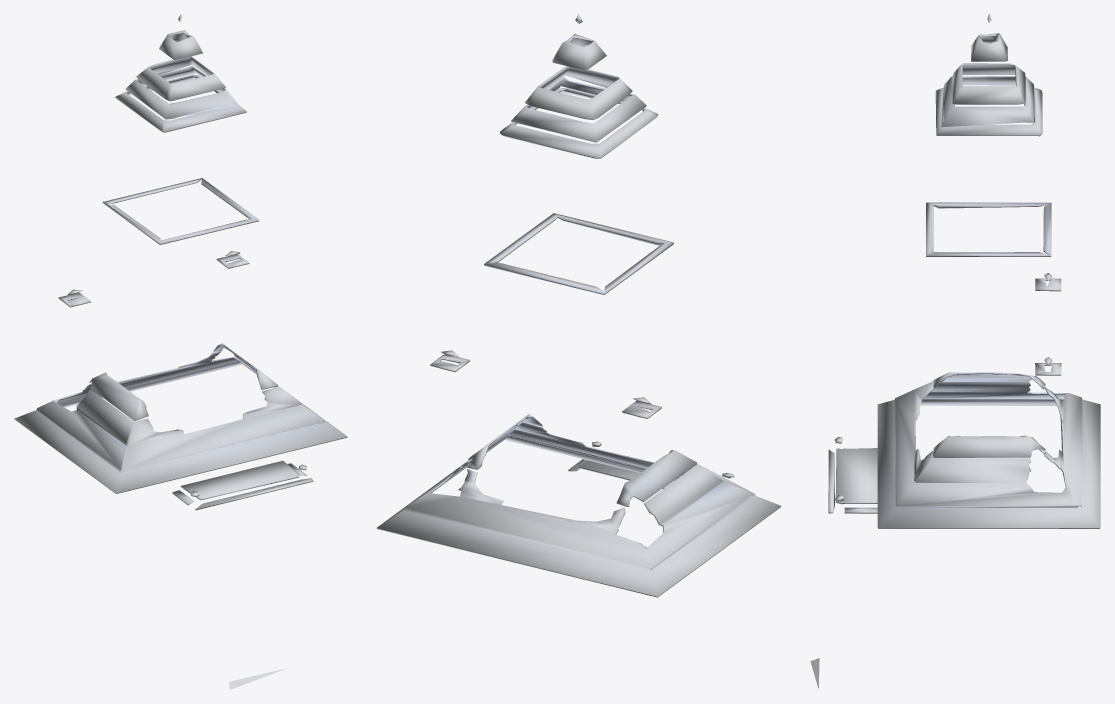
Rendered from protocol.spark.snow.glb.
3 renders of one model, left to right at view 1: azimuth 30°, elevation 25°; view 2: azimuth 150°, elevation 25°; view 3: azimuth 270°, elevation 25°, orthographic. The views are drawn at different scales.
Visible parts, largest first — view 1: building.protocol.spark.snow.mesh; view 2: building.protocol.spark.snow.mesh; view 3: building.protocol.spark.snow.mesh.
Part boxes in pixels (<box>): building.protocol.spark.snow.mesh: <box>14,14,347,689</box>; building.protocol.spark.snow.mesh: <box>376,14,781,597</box>; building.protocol.spark.snow.mesh: <box>810,14,1100,688</box>.
Size of the model in its own units: 11.03 by 27.65 by 10.94.
